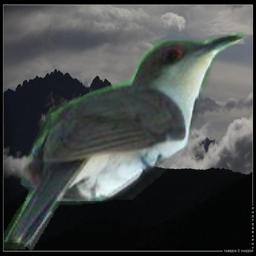Cuckoo: (3, 32, 248, 252)
